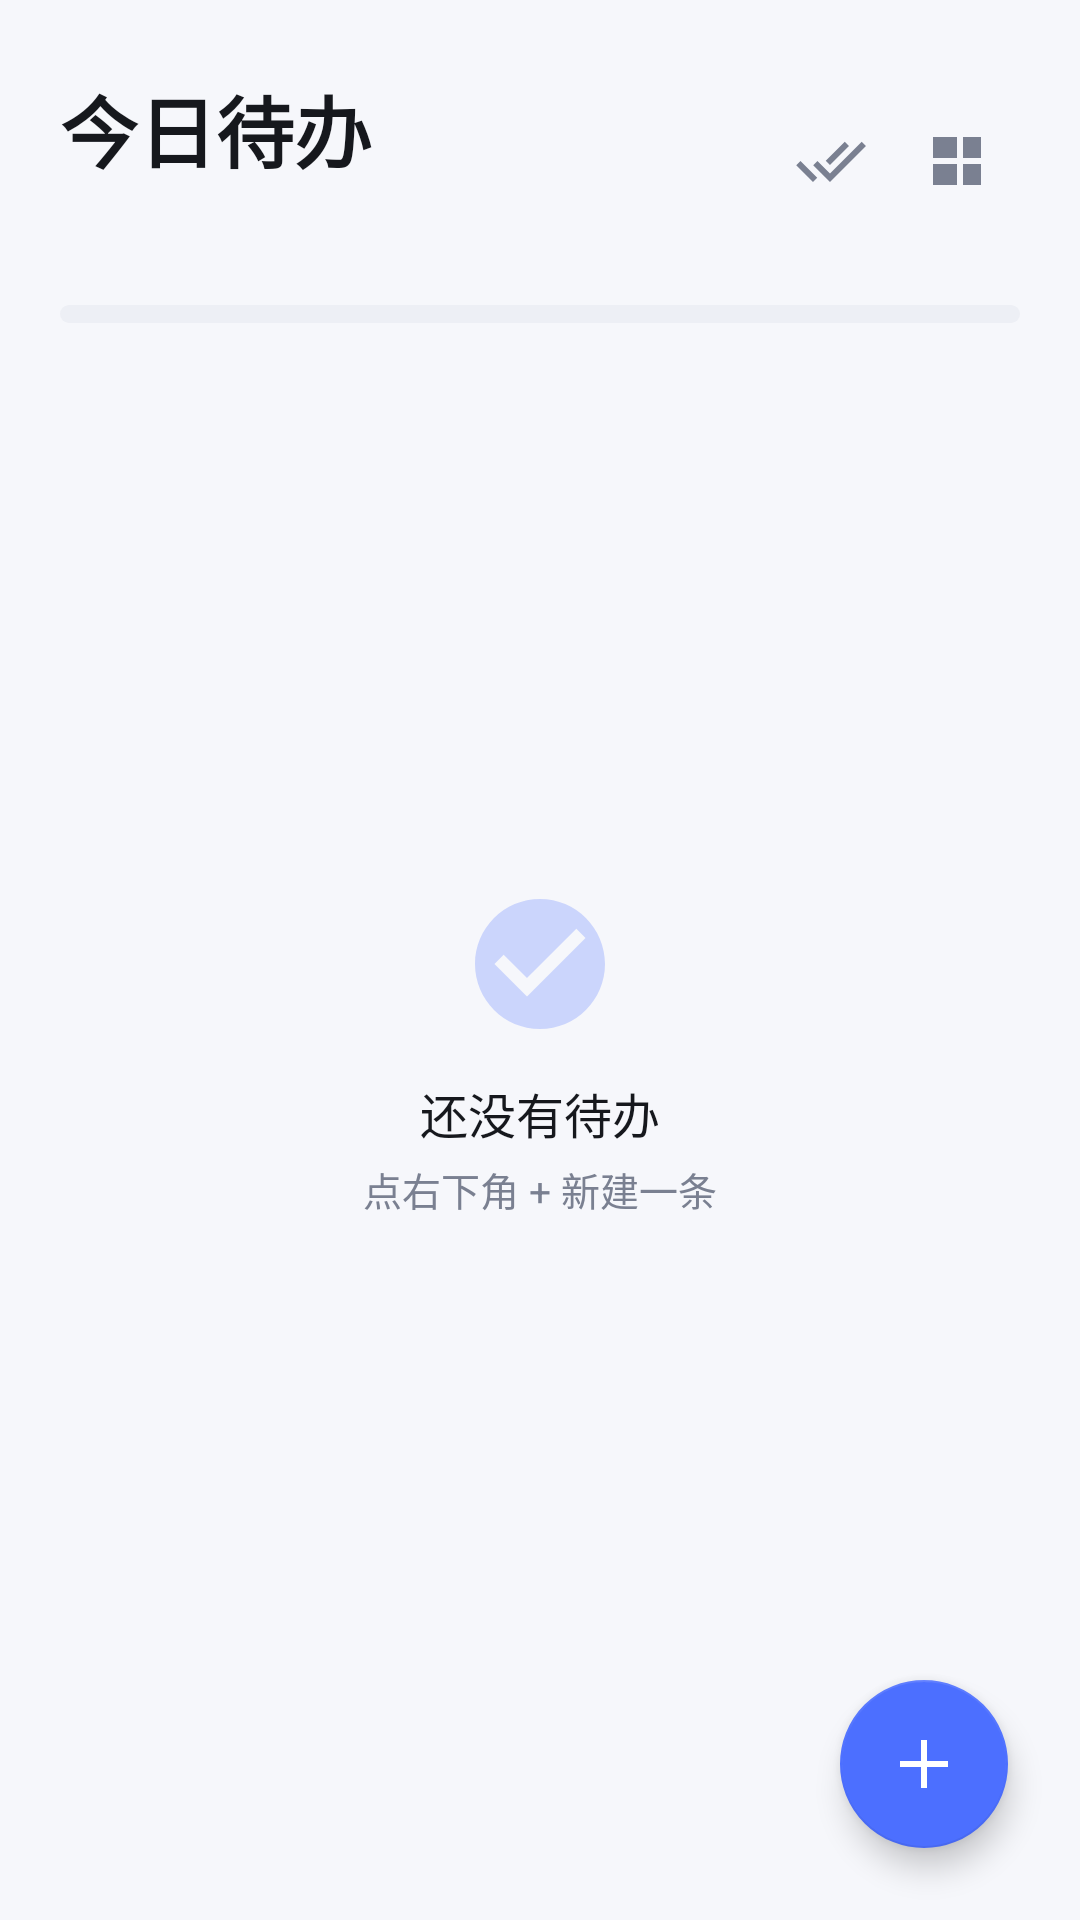

Named icons in this screenshot (1080x1920) and their centers, (x=x, y=y):
check circle: (x=540, y=964)
添加待办: (x=924, y=1764)
清除已完成: (x=831, y=162)
